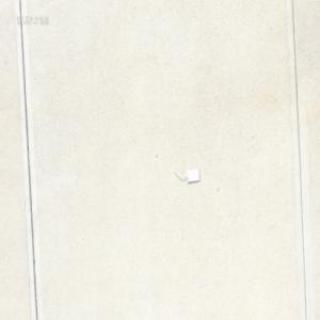LuggageTagtrack_idkeyframe: (172, 165, 200, 182)
